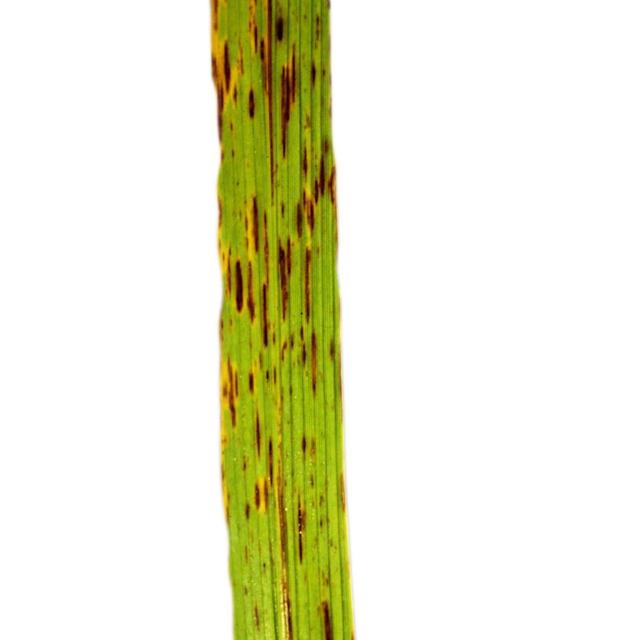Narrow brown: (170, 0, 354, 640)
